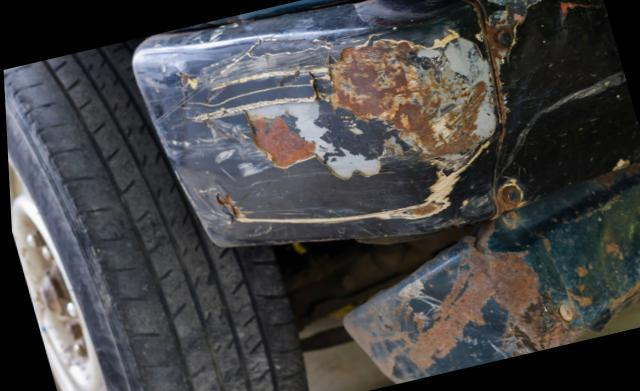dislocated part: (216, 157, 640, 383)
scratch: (177, 19, 497, 234)
